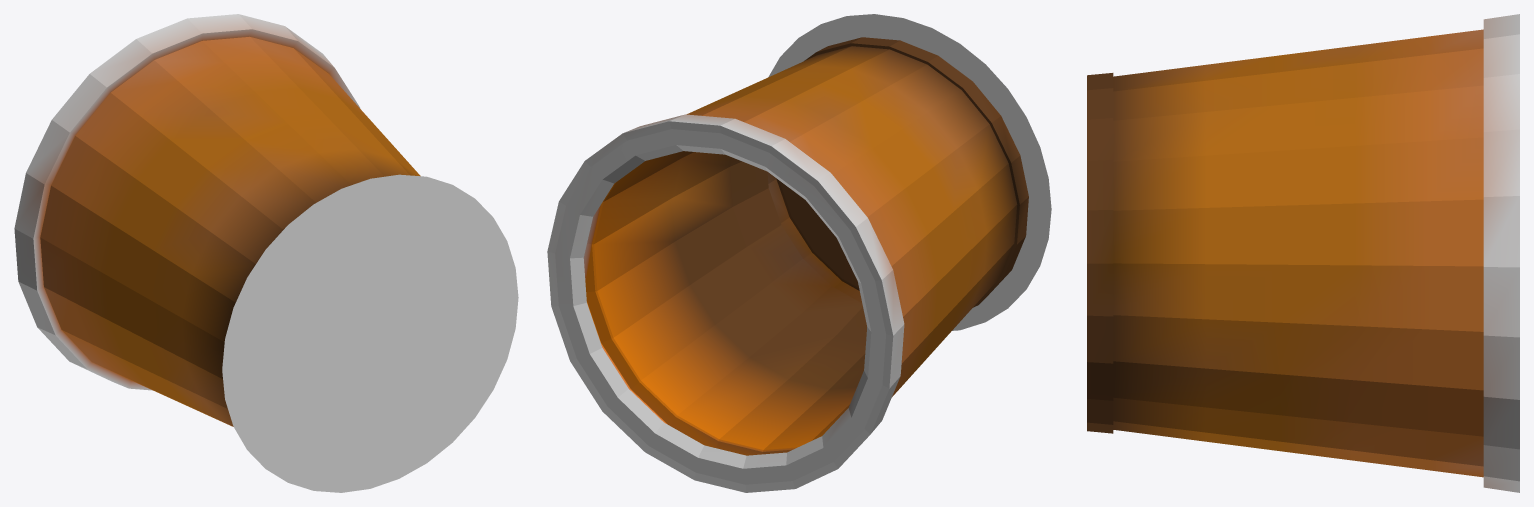
File: dustbin6.fbx
3 views of the same model, side by side, from view 1: azimuth 30°, elevation 25°; view 2: azimuth 150°, elevation 25°; view 3: azimuth 270°, elevation 25° (orthographic). The views are drawn at different scales.
Visible parts, largest first — view 1: Cylinder.001, Circle.001; view 2: Cylinder.001, Circle.001; view 3: Cylinder.001.
Boxes of the visible parts, x1=… form: Cylinder.001: x1=14, y1=14, x2=420, y2=426; Circle.001: x1=222, y1=174, x2=518, y2=492; Cylinder.001: x1=547, y1=37, x2=1028, y2=492; Circle.001: x1=768, y1=14, x2=1051, y2=330; Cylinder.001: x1=1087, y1=14, x2=1519, y2=492.
Bounding box in the file's own units: 50.76 × 50.62 × 46.53.
